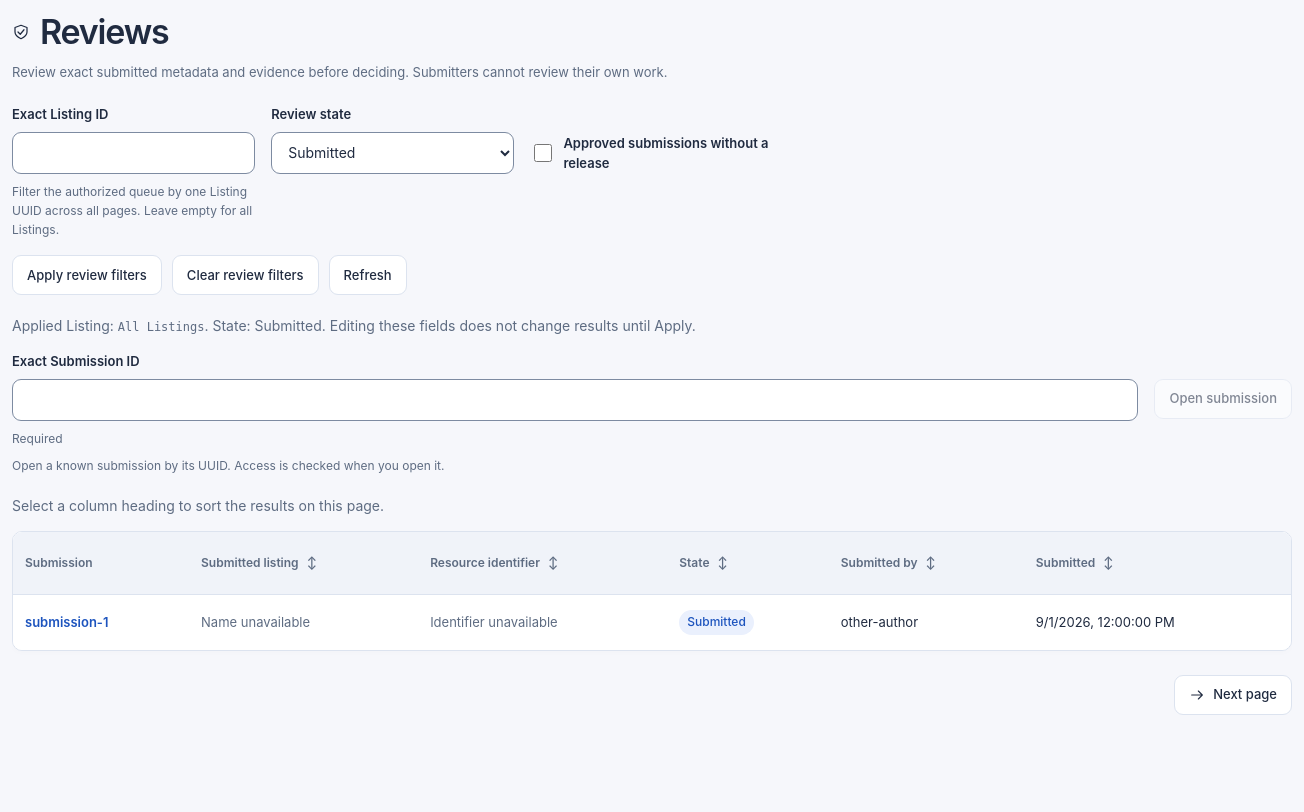
Test: discards an obsolete continuation after URL navigation resets the queue
The width and height of the screenshot is (1304, 812).
Check: the link "submission-1" is shown, box [25,614,108,630]
Check: the button "Apply review filters" is enabled, box [12,255,162,295]
Click the button "Next page" at (1233, 695), box [1174,675,1292,715]
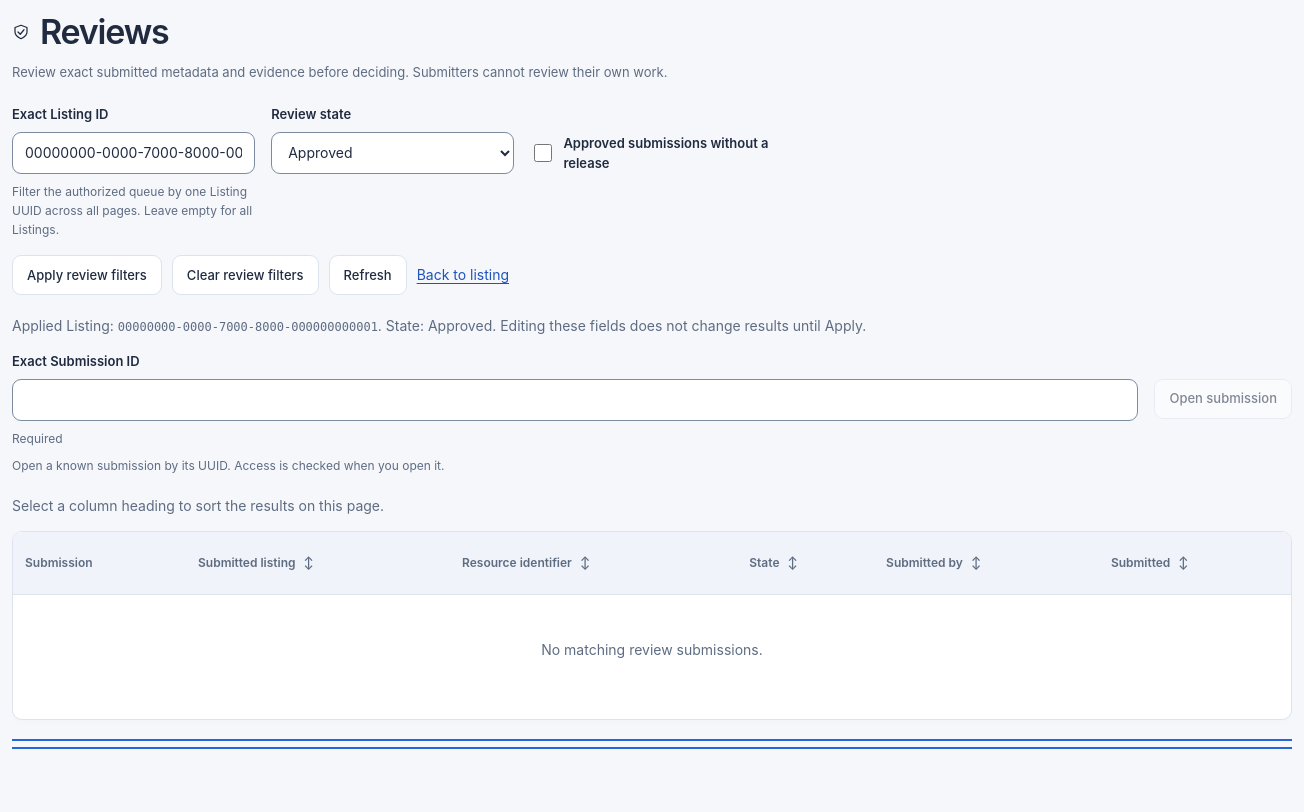
Check: the text "No matching review submissions." is shown, box [541,641,763,658]
Check: the link "submission-1" is gone
